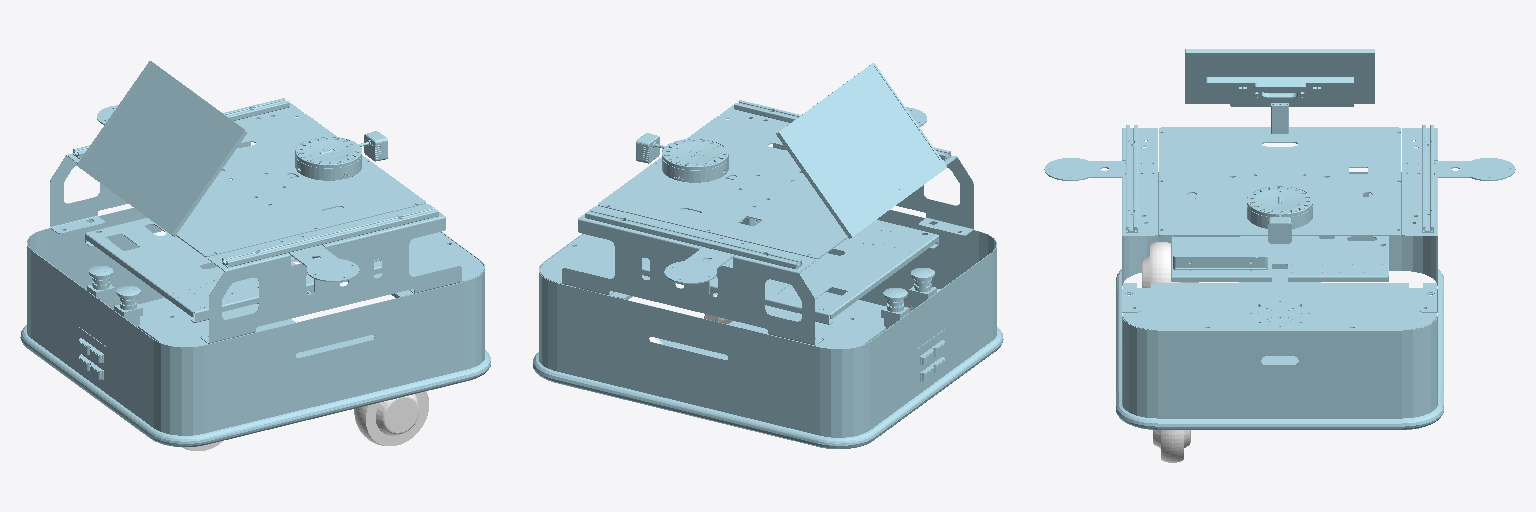
URDF robot description (lucsys_lsr550_mec_premium_oscillating_axle_suspension):
<?xml version="1.0" encoding="utf-8"?>
<robot name="lucsys_lsr550_mec_premium_oscillating_axle_suspension">
  <link name="base_link">
    <inertial>
      <origin xyz="-0.0434718540945225 0.00479096721747944 0.0616616740894804" rpy="0 0 0" />
      <mass value="2.16356623435247" />
      <inertia ixx="0.00457530939003441" ixy="2.66501329882188E-05" ixz="-1.68910168002872E-06" iyy="0.00742120437288696" iyz="-5.03454173208333E-08" izz="0.0114903919776487" />
    </inertial>
    <visual>
      <origin xyz="0 0 0" rpy="0 0 0" />
      <geometry>
        <mesh filename="package://lucsys_lsr550_mec_premium_oscillating_axle_suspension_description/meshes/lsr550_mec_premium_oscillating_axle_suspension/base_link.STL" />
      </geometry>
      <material name="lucsys_material_0">
        <color rgba="0.741176470588235 0.901960784313726 0.956862745098039 1" />
      </material>
    </visual>
    <collision>
      <origin xyz="0 0 0" rpy="0 0 0" />
      <geometry>
        <mesh filename="package://lucsys_lsr550_mec_premium_oscillating_axle_suspension_description/meshes/lsr550_mec_premium_oscillating_axle_suspension/base_link.STL" />
      </geometry>
    </collision>
  </link>
  <link name="lf_wheel_link">
    <inertial>
      <origin xyz="1.87283562189666E-05 -0.00416248539198538 -9.72421313388816E-07" rpy="0 0 0" />
      <mass value="0.223696874382644" />
      <inertia ixx="0.000160822017712014" ixy="4.9063134200795E-08" ixz="4.63711505038062E-09" iyy="0.000252355253681534" iyz="1.75497058836953E-08" izz="0.000160759030211795" />
    </inertial>
    <visual>
      <origin xyz="0 0 0" rpy="0 0 0" />
      <geometry>
        <mesh filename="package://lucsys_lsr550_mec_premium_oscillating_axle_suspension_description/meshes/lsr550_mec_premium_oscillating_axle_suspension/lf_wheel_link.STL" />
      </geometry>
      <material name="lucsys_material_1">
        <color rgba="1 1 1 1" />
      </material>
    </visual>
    <collision>
      <origin xyz="0 0 0" rpy="0 0 0" />
      <geometry>
        <mesh filename="package://lucsys_lsr550_mec_premium_oscillating_axle_suspension_description/meshes/lsr550_mec_premium_oscillating_axle_suspension/lf_wheel_link.STL" />
      </geometry>
    </collision>
  </link>
  <joint name="lf_wheel_joint" type="continuous">
    <origin xyz="0.155173518918731 0.17805920240713 0.025" rpy="0 0 0" />
    <parent link="base_link" />
    <child link="lf_wheel_link" />
    <axis xyz="0 -1 0" />
  </joint>
  <link name="lb_wheel_link">
    <inertial>
      <origin xyz="1.85050521401275E-05 -0.00416308993538386 -2.81809145488698E-06" rpy="0 0 0" />
      <mass value="0.223697292526722" />
      <inertia ixx="0.000160821916551861" ixy="4.8211100161235E-08" ixz="-7.00970476827432E-10" iyy="0.000252352800235012" iyz="-2.74095197440563E-08" izz="0.000160757657964811" />
    </inertial>
    <visual>
      <origin xyz="0 0 0" rpy="0 0 0" />
      <geometry>
        <mesh filename="package://lucsys_lsr550_mec_premium_oscillating_axle_suspension_description/meshes/lsr550_mec_premium_oscillating_axle_suspension/lb_wheel_link.STL" />
      </geometry>
      <material name="lucsys_material_2">
        <color rgba="1 1 1 1" />
      </material>
    </visual>
    <collision>
      <origin xyz="0 0 0" rpy="0 0 0" />
      <geometry>
        <mesh filename="package://lucsys_lsr550_mec_premium_oscillating_axle_suspension_description/meshes/lsr550_mec_premium_oscillating_axle_suspension/lb_wheel_link.STL" />
      </geometry>
    </collision>
  </link>
  <joint name="lb_wheel_joint" type="continuous">
    <origin xyz="-0.157526481081269 0.178360202407132 0.024" rpy="0 0 0" />
    <parent link="base_link" />
    <child link="lb_wheel_link" />
    <axis xyz="0 -1 0" />
  </joint>
  <link name="rb_wheel_link">
    <inertial>
      <origin xyz="1.07987188296688E-05 0.0041382485296827 -1.53996039122806E-05" rpy="0 0 0" />
      <mass value="0.223696874518015" />
      <inertia ixx="0.000160795949860479" ixy="-2.80930544656176E-08" ixz="-1.27865932842537E-08" iyy="0.000252355235947738" iyz="5.92345035969955E-08" izz="0.00016078507637539" />
    </inertial>
    <visual>
      <origin xyz="0 0 0" rpy="0 0 0" />
      <geometry>
        <mesh filename="package://lucsys_lsr550_mec_premium_oscillating_axle_suspension_description/meshes/lsr550_mec_premium_oscillating_axle_suspension/rb_wheel_link.STL" />
      </geometry>
      <material name="lucsys_material_3">
        <color rgba="1 1 1 1" />
      </material>
    </visual>
    <collision>
      <origin xyz="0 0 0" rpy="0 0 0" />
      <geometry>
        <mesh filename="package://lucsys_lsr550_mec_premium_oscillating_axle_suspension_description/meshes/lsr550_mec_premium_oscillating_axle_suspension/rb_wheel_link.STL" />
      </geometry>
    </collision>
  </link>
  <joint name="rb_wheel_joint" type="continuous">
    <origin xyz="-0.157526481081271 -0.176622797592868 0.024" rpy="0 0 0" />
    <parent link="base_link" />
    <child link="rb_wheel_link" />
    <axis xyz="0 1 0" />
  </joint>
  <link name="rf_wheel_link">
    <inertial>
      <origin xyz="1.1882911176736E-05 0.00416310142263798 -1.42606304696924E-05" rpy="0 0 0" />
      <mass value="0.22369694037604" />
      <inertia ixx="0.000160798221326041" ixy="-3.18715247149916E-08" ixz="-1.48969562101952E-08" iyy="0.000252352855565134" iyz="5.66304536398535E-08" izz="0.000160781418583805" />
    </inertial>
    <visual>
      <origin xyz="0 0 0" rpy="0 0 0" />
      <geometry>
        <mesh filename="package://lucsys_lsr550_mec_premium_oscillating_axle_suspension_description/meshes/lsr550_mec_premium_oscillating_axle_suspension/rf_wheel_link.STL" />
      </geometry>
      <material name="lucsys_material_4">
        <color rgba="1 1 1 1" />
      </material>
    </visual>
    <collision>
      <origin xyz="0 0 0" rpy="0 0 0" />
      <geometry>
        <mesh filename="package://lucsys_lsr550_mec_premium_oscillating_axle_suspension_description/meshes/lsr550_mec_premium_oscillating_axle_suspension/rf_wheel_link.STL" />
      </geometry>
    </collision>
  </link>
  <joint name="rf_wheel_joint" type="continuous">
    <origin xyz="0.155174518918729 -0.17712579759287 0.025" rpy="0 0 0" />
    <parent link="base_link" />
    <child link="rf_wheel_link" />
    <axis xyz="0 1 0" />
  </joint>
  <link name="camera_link">
    <inertial>
      <origin xyz="3.37966248681321E-07 -3.48615978326279E-07 1.07624234864379E-07" rpy="0 0 0" />
      <mass value="0.0559842512080115" />
      <inertia ixx="0.000130810959339214" ixy="1.20255128206158E-07" ixz="1.62335437080103E-06" iyy="1.91148634967895E-05" iyz="-2.80016755800528E-08" izz="0.000131387469523027" />
    </inertial>
    <visual>
      <origin xyz="0 0 0" rpy="0 0 0" />
      <geometry>
        <mesh filename="package://lucsys_lsr550_mec_premium_oscillating_axle_suspension_description/meshes/lsr550_mec_premium_oscillating_axle_suspension/camera_link.STL" />
      </geometry>
      <material name="lucsys_material_5">
        <color rgba="1 1 1 1" />
      </material>
    </visual>
    <collision>
      <origin xyz="0 0 0" rpy="0 0 0" />
      <geometry>
        <mesh filename="package://lucsys_lsr550_mec_premium_oscillating_axle_suspension_description/meshes/lsr550_mec_premium_oscillating_axle_suspension/camera_link.STL" />
      </geometry>
    </collision>
  </link>
  <joint name="camera_joint" type="fixed">
    <origin xyz="0.16083451891873 0.000745202407130424 0.089704" rpy="0 0 0" />
    <parent link="base_link" />
    <child link="camera_link" />
    <axis xyz="0 0 0" />
  </joint>
  <link name="laser_link">
    <inertial>
      <origin xyz="0.00239460672176937 -4.36235884714746E-06 0.00454035676139652" rpy="0 0 0" />
      <mass value="0.0391766918371766" />
      <inertia ixx="2.82296075723246E-05" ixy="-2.19900347431237E-09" ixz="1.07118438616619E-06" iyy="3.37984497863101E-05" iyz="6.83963576615607E-10" izz="4.50920076534761E-05" />
    </inertial>
    <visual>
      <origin xyz="0 0 0" rpy="0 0 0" />
      <geometry>
        <mesh filename="package://lucsys_lsr550_mec_premium_oscillating_axle_suspension_description/meshes/lsr550_mec_premium_oscillating_axle_suspension/laser.STL" />
      </geometry>
      <material name="lucsys_material_6">
        <color rgba="0.376470588235294 0.376470588235294 0.376470588235294 1" />
      </material>
    </visual>
    <collision>
      <origin xyz="0 0 0" rpy="0 0 0" />
      <geometry>
        <mesh filename="package://lucsys_lsr550_mec_premium_oscillating_axle_suspension_description/meshes/lsr550_mec_premium_oscillating_axle_suspension/laser.STL" />
      </geometry>
    </collision>
  </link>
  <joint name="laser_joint" type="fixed">
    <origin xyz="0.0911278646206001 0.000667202405493718 0.111024183741431" rpy="0 0 3.14159265358979" />
    <parent link="base_link" />
    <child link="laser_link" />
    <axis xyz="0 0 0" />
  </joint>
  <link name="controller_link">
    <inertial>
      <origin xyz="-0.0345544164547887 0.0884587575058604 -0.00475090869119181" rpy="0 0 0" />
      <mass value="0.00500280353665618" />
      <inertia ixx="5.5683668655799E-07" ixy="-4.85741212386078E-14" ixz="-5.07877537957038E-15" iyy="9.8382415075769E-08" iyz="3.20815042510521E-14" izz="6.06554886179191E-07" />
    </inertial>
    <visual>
      <origin xyz="0 0 0" rpy="0 0 0" />
      <geometry>
        <mesh filename="package://lucsys_lsr550_mec_premium_oscillating_axle_suspension_description/meshes/lsr550_mec_premium_oscillating_axle_suspension/controller_link.STL" />
      </geometry>
      <material name="lucsys_material_7">
        <color rgba="0.741176470588235 0.901960784313726 0.956862745098039 1" />
      </material>
    </visual>
    <collision>
      <origin xyz="0 0 0" rpy="0 0 0" />
      <geometry>
        <mesh filename="package://lucsys_lsr550_mec_premium_oscillating_axle_suspension_description/meshes/lsr550_mec_premium_oscillating_axle_suspension/controller_link.STL" />
      </geometry>
    </collision>
  </link>
  <joint name="controller_joint" type="fixed">
    <origin xyz="-0.072154314146756 -0.0796936307243407 0.155" rpy="0 0 0" />
    <parent link="base_link" />
    <child link="controller_link" />
    <axis xyz="0 0 0" />
  </joint>
</robot>

--- What the picture shows (computed from the rendered views, not written in the file) ---
3 views of the same robot in one strip: view 1: azimuth 30°, elevation 25°; view 2: azimuth 150°, elevation 25°; view 3: azimuth 270°, elevation 25° (orthographic).
Model lucsys_lsr550_mec_premium_oscillating_axle_suspension with 8 links and 7 joints (4 continuous, 3 fixed), rooted at base_link, posed all joints at 0.
Visible links, largest first — view 1: base_link, rf_wheel_link; view 2: base_link; view 3: base_link, rb_wheel_link, rf_wheel_link.
Link boxes in pixels (x1,y1,x2,y2): base_link: [20, 61, 490, 446]; rf_wheel_link: [354, 391, 428, 445]; base_link: [533, 63, 1003, 448]; base_link: [1044, 49, 1515, 429]; rb_wheel_link: [1142, 242, 1198, 287]; rf_wheel_link: [1153, 430, 1190, 462].
Bounding box of the posed robot: 0.64 × 0.7764 × 0.6224 m (x, y, z).
4 mesh visuals loaded from 8 distinct referenced files (4 binary STL); not drawn: 4 (reference not matched to a file when rendering).
